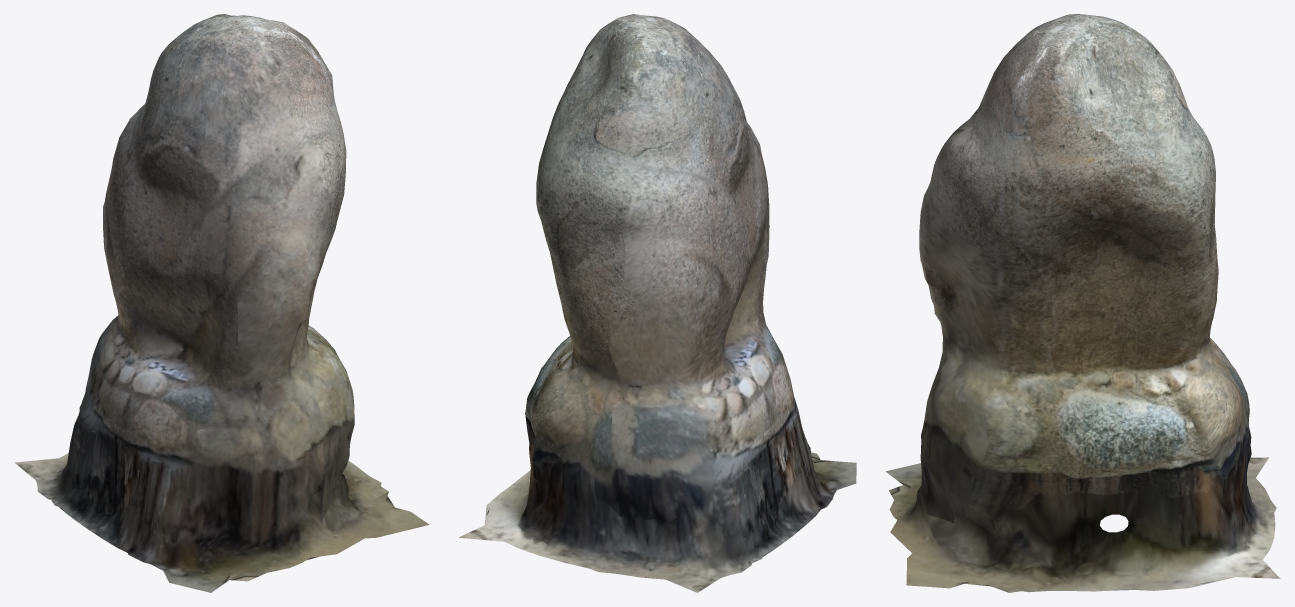
The picture shows the model from 3 angles, left to right: view 1: azimuth 30°, elevation 25°; view 2: azimuth 150°, elevation 25°; view 3: azimuth 270°, elevation 25°; orthographic projection. The views are drawn at different scales.
Visible parts, largest first — view 1: Object; view 2: Object; view 3: Object.
Boxes of the visible parts, bbox=[...] form: Object: bbox=[14, 14, 429, 592]; Object: bbox=[459, 14, 856, 592]; Object: bbox=[886, 14, 1280, 592].
Bounding box in the file's own units: 0.5756 × 0.978 × 0.6845.
Materials: 1 (1 with a texture image).
